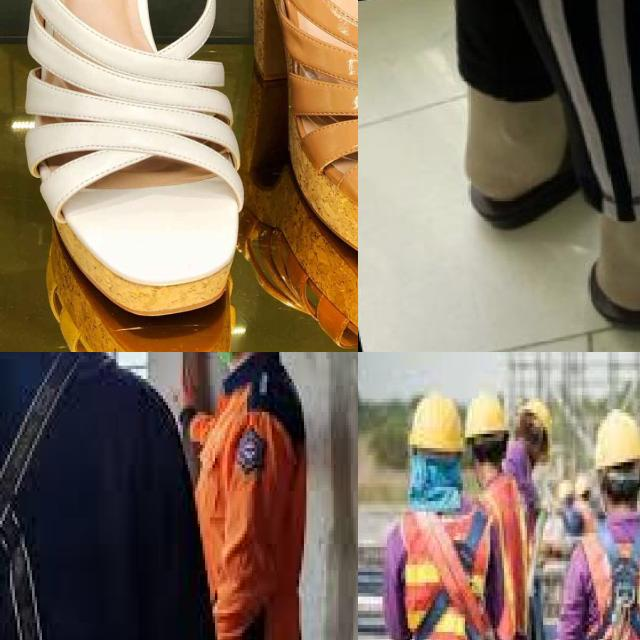Harness: (0, 352, 107, 640), (397, 495, 506, 640), (571, 509, 640, 640)
Sandals: (0, 0, 264, 329), (228, 0, 358, 315)
